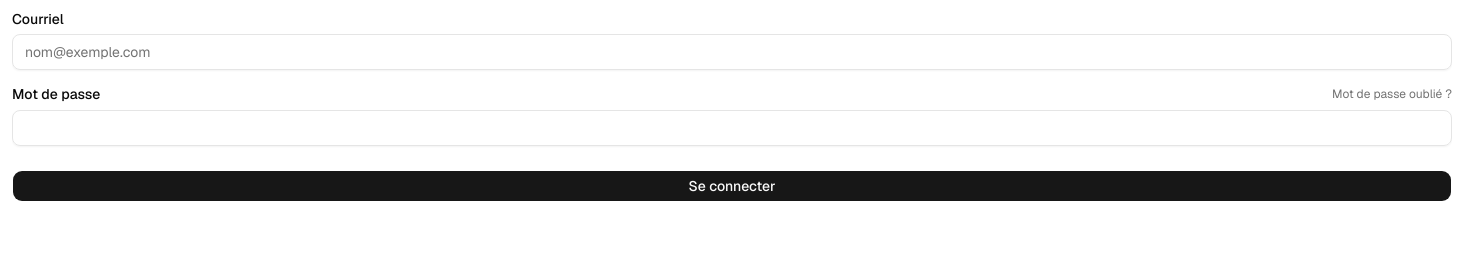
Scenario: LoginForm › efface l'erreur précédente lors d'une nouvelle tentative
Type "alex@exemple.com" into the field labelled "Courriel" at (732, 52), box [12,34,1452,70]
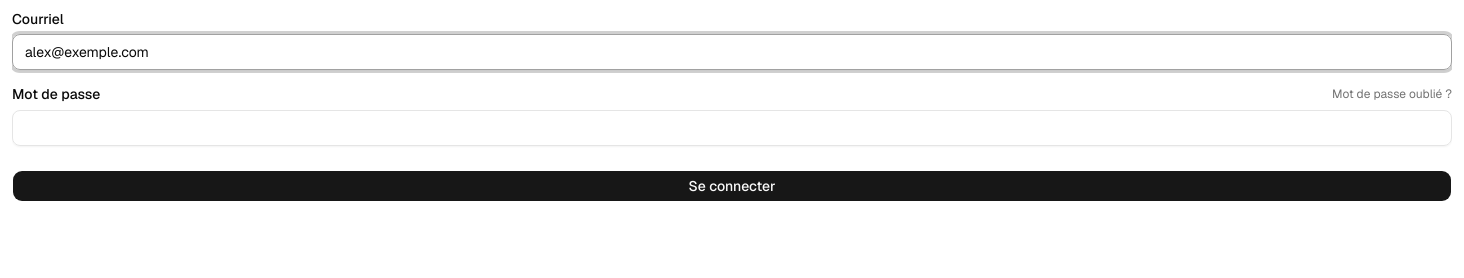
Type "mauvais-mdp" into the password field labelled "Mot de passe" at (732, 128), box [12,110,1452,146]
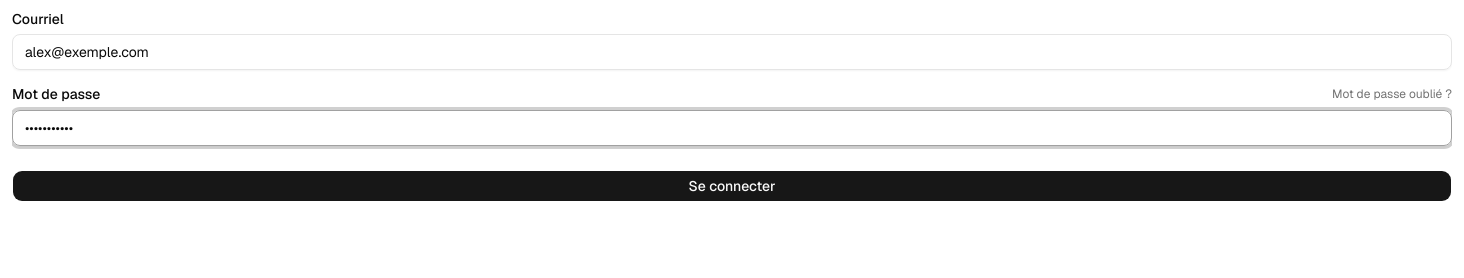
Click the button "Se connecter" at (732, 186), box [12,170,1452,202]
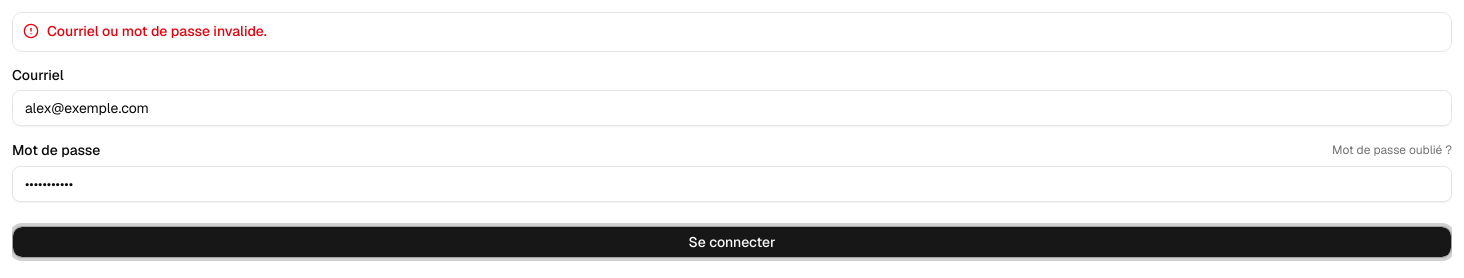
Expected: the message "Courriel ou mot de passe invalide." is shown, [12,12,1452,52]
Click the button "Se connecter" at (732, 242), box [12,226,1452,258]
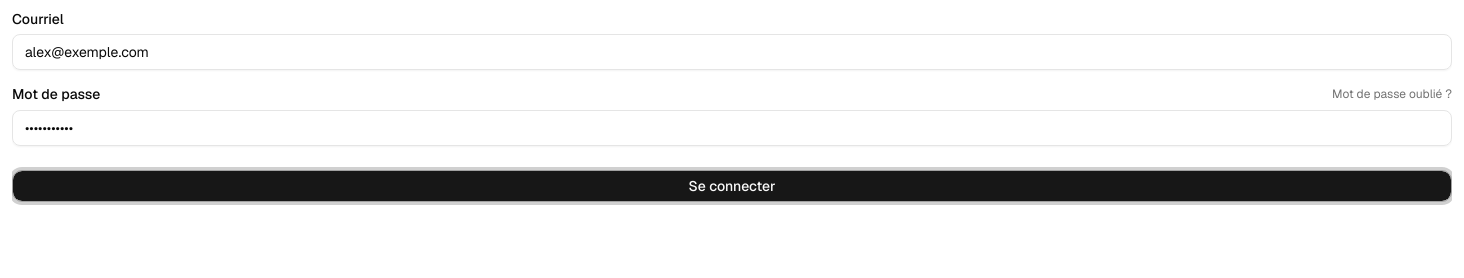
Expected: the message "Courriel ou mot de passe invalide." is gone
